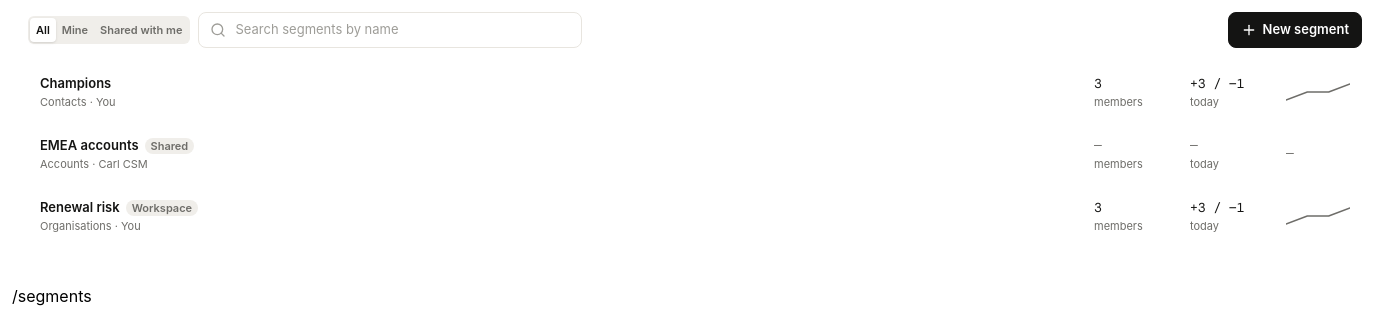
/segments (spec §3) › opens on All, and switches between All, Mine and Shared with me in the URL, asking the server for each
Click the button "Shared with me".
click(141, 30)  # box [94, 18, 188, 42]
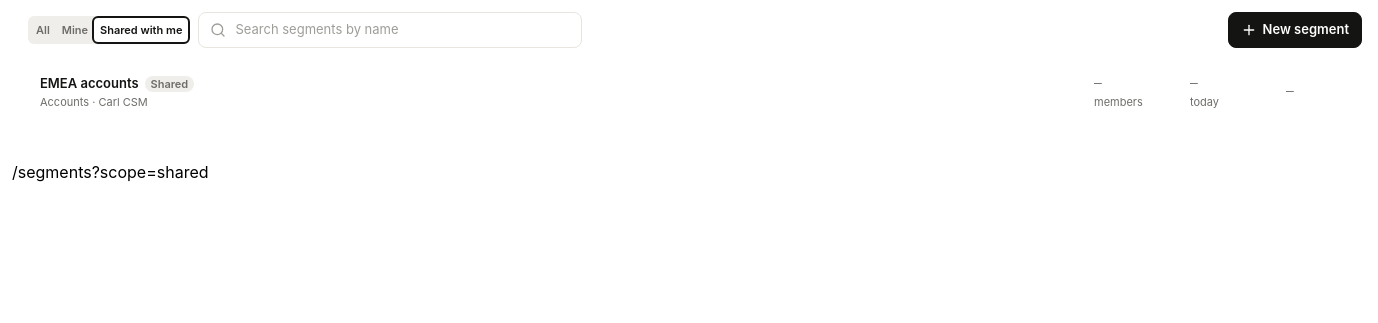
Check: the text with test id "where" reads "/segments?scope=shared", box [12, 162, 208, 182]
